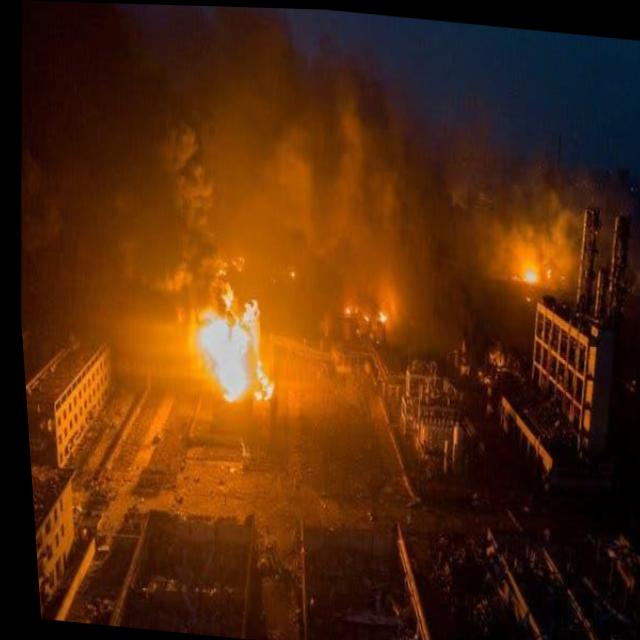fire: (176, 275, 283, 415), (515, 256, 538, 287), (370, 305, 388, 328), (337, 295, 357, 314)
